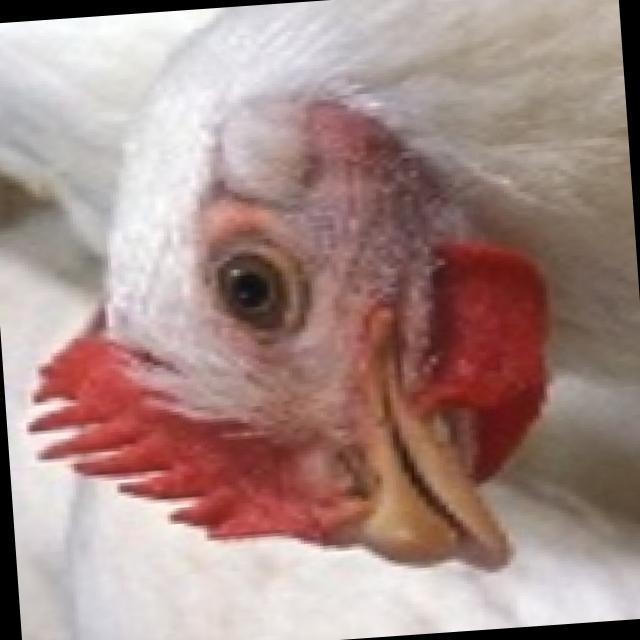Healthy: (0, 0, 618, 603)
